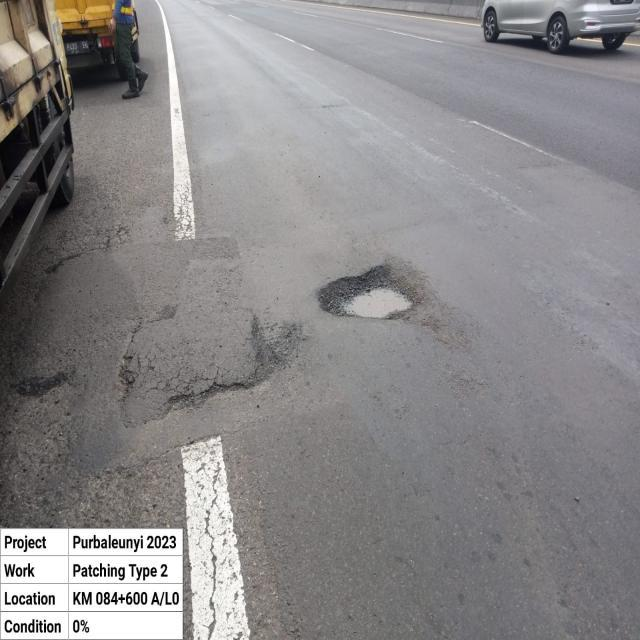Buraco: (314, 262, 427, 323)
